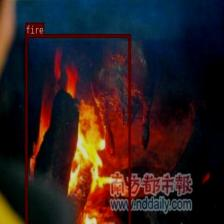fire: (24, 33, 130, 224)
